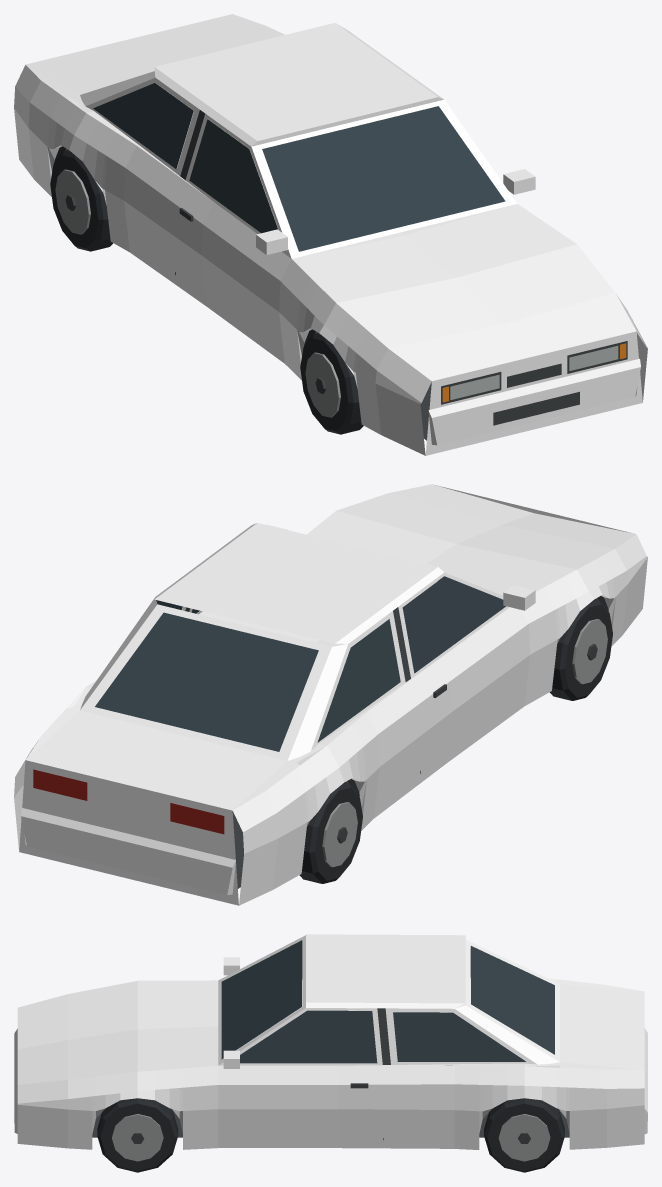
Rendered from kanaya_shinonome_gx.glb.
3 renders of one model, top to bottom at view 1: azimuth 30°, elevation 25°; view 2: azimuth 150°, elevation 25°; view 3: azimuth 270°, elevation 25°, orthographic. The views are drawn at different scales.
Visible parts, largest first — view 1: kanaya_shinonome_gx; view 2: kanaya_shinonome_gx; view 3: kanaya_shinonome_gx.
Part boxes in pixels (box(x1,y1,x2,y2)): kanaya_shinonome_gx: box(14, 14, 647, 455); kanaya_shinonome_gx: box(14, 484, 647, 905); kanaya_shinonome_gx: box(14, 934, 647, 1172).
Size of the model in its own units: 1.79 by 1.25 by 4.62.
8 materials, 1 textured.
